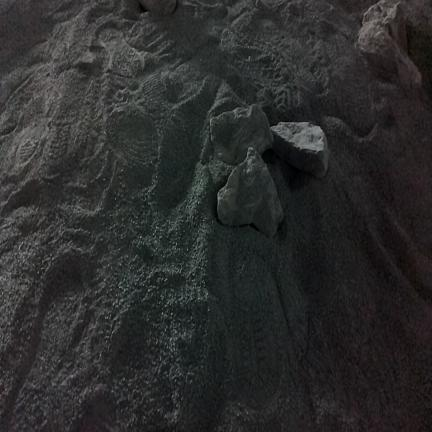Rock: (218, 147, 283, 237), (359, 0, 421, 89), (210, 104, 273, 164), (272, 122, 328, 178), (140, 0, 176, 14)
